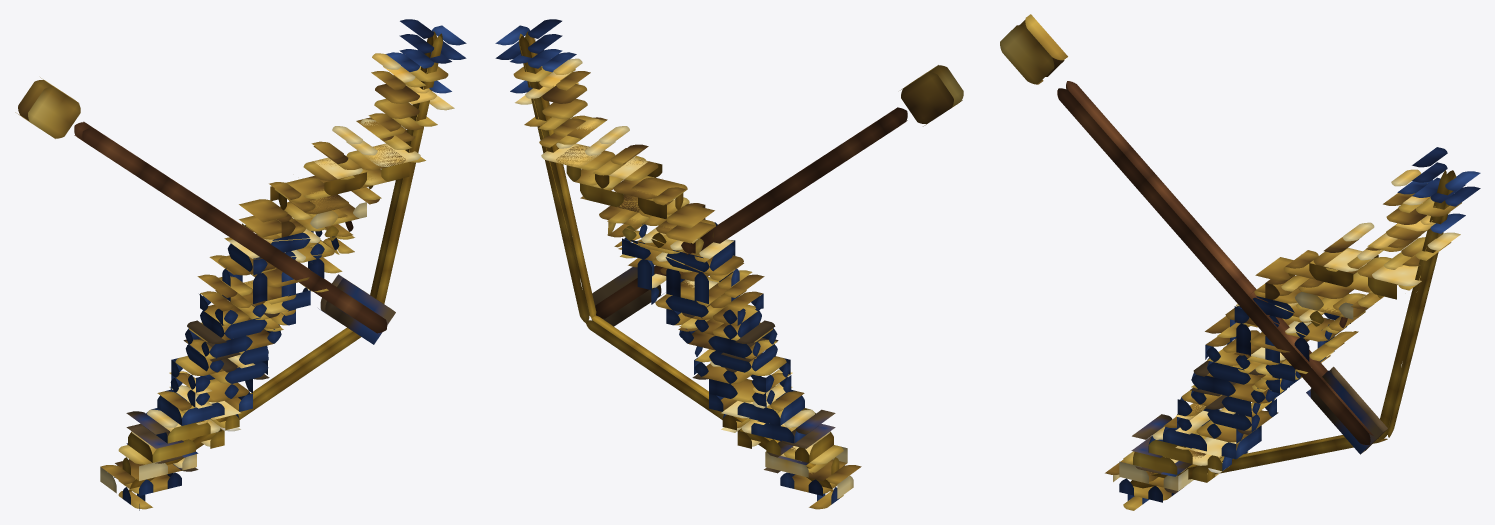
File: reed_bow_pulling_2.obj
3 views of the same model, side by side, from view 1: azimuth 30°, elevation 25°; view 2: azimuth 150°, elevation 25°; view 3: azimuth 330°, elevation 25° (orthographic). The views are drawn at different scales.
Visible parts, largest first — view 1: lit, fire; view 2: lit, fire; view 3: lit, fire.
Part boxes in pixels (x1=…): lit: x1=15, y1=19, x2=466, y2=510; fire: x1=318, y1=274, x2=395, y2=344; lit: x1=495, y1=19, x2=963, y2=509; fire: x1=592, y1=267, x2=662, y2=326; lit: x1=1000, y1=14, x2=1480, y2=510; fire: x1=1306, y1=366, x2=1387, y2=454.
Bounding box in the file's own units: 0.9766 × 0.9483 × 0.125.
